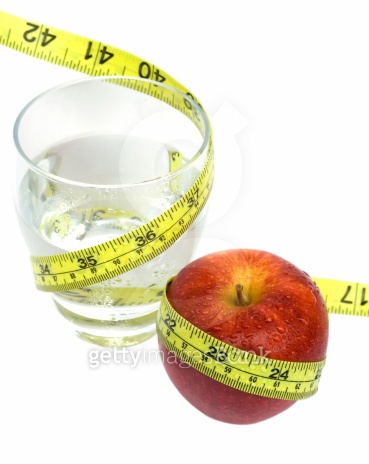glass of water: (10, 72, 209, 354)
